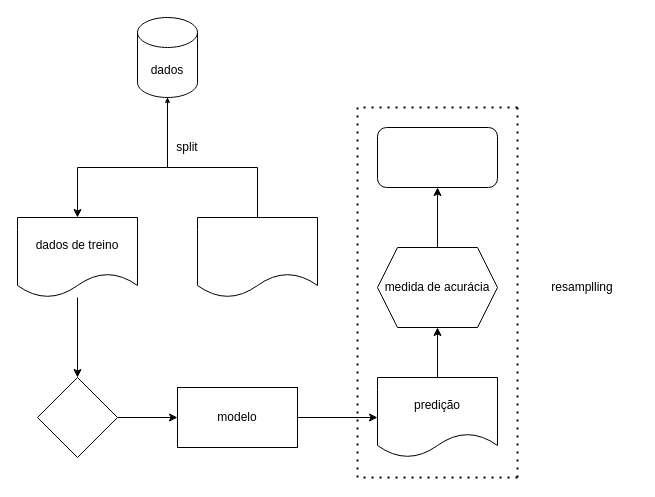
Some shapes in this 655 by 497 pixel diagram are drawn without their labels. Here are the shapes that lost their labels. From the top down, the centre of each, then its label:
point (437, 157): performance
point (257, 257): dados de teste
point (77, 417): algoritmo
